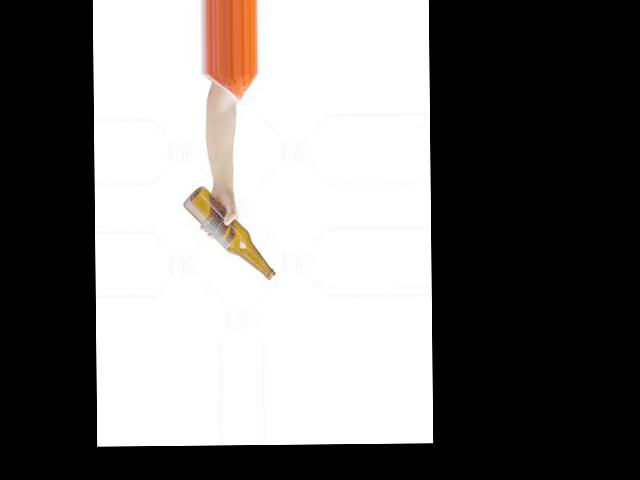beer: (182, 185, 275, 280)
